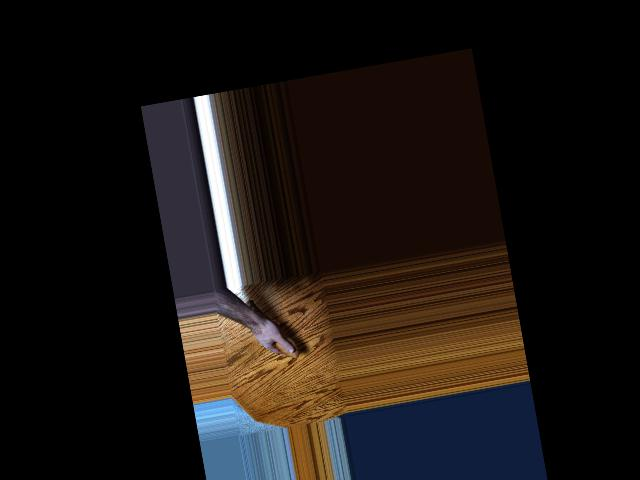sweet_potato: (244, 291, 299, 365)
